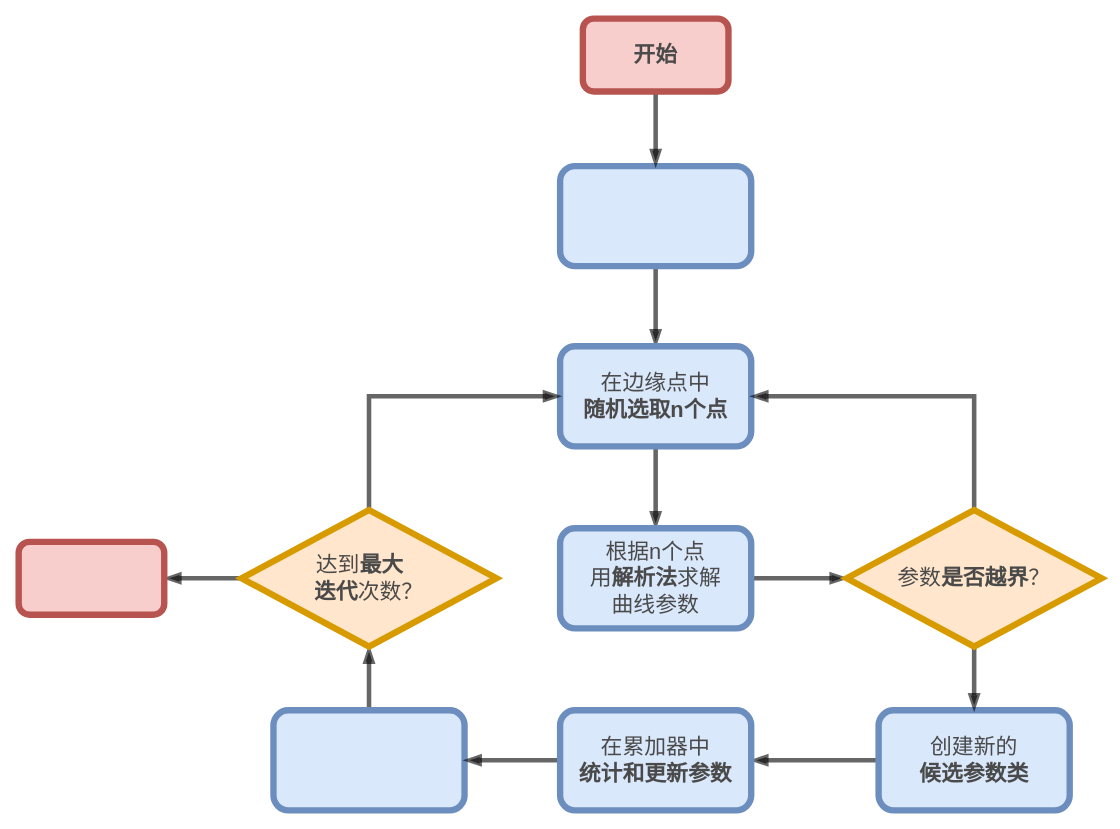
Some shapes in this 1120 by 829 pixel diagram are drawn without their labels. Here are the shapes that lost their labels. From the top down, the centre of each, then its label:
pixel 655 215: 提取 图像边缘 生成 边缘点集
pixel 91 577: 结束
pixel 368 760: 根据 阈值 选取曲线参数
